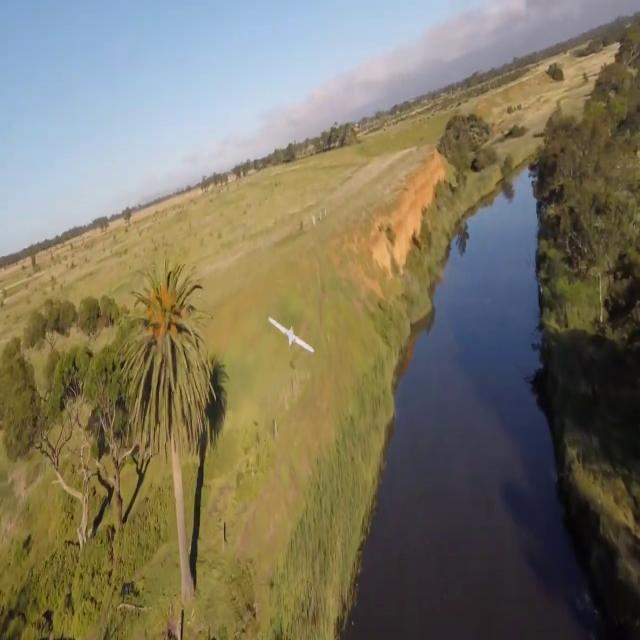iha: (267, 316, 317, 354)
